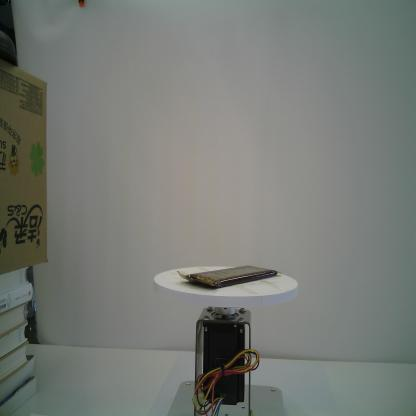Chocolate: (177, 264, 282, 291)
